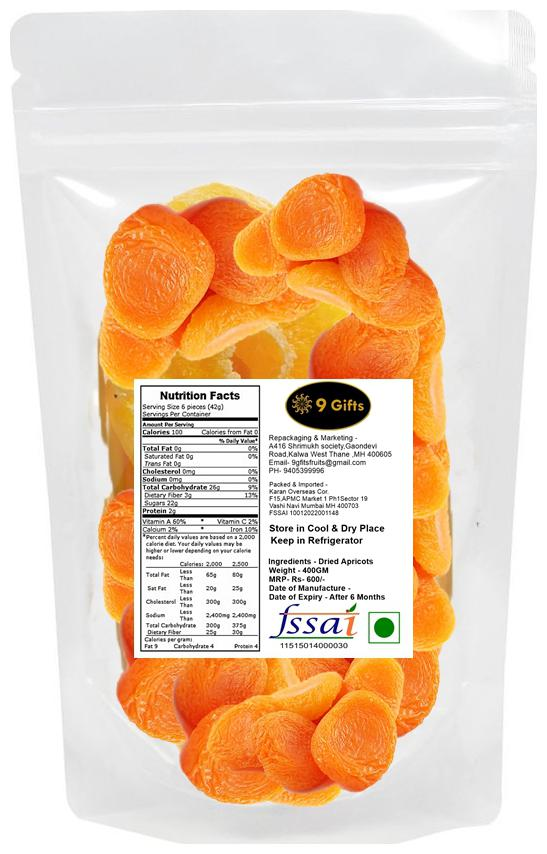fssai: (271, 602, 359, 638)
